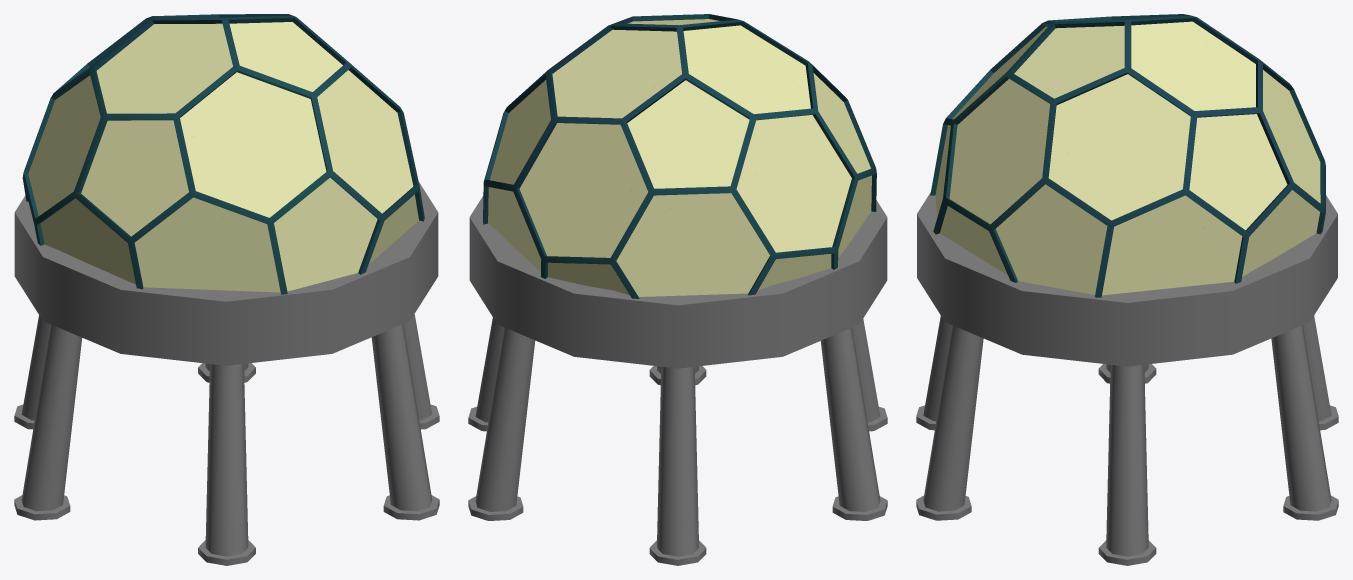
File: House3.fbx
3 views of the same model, side by side, from view 1: azimuth 30°, elevation 25°; view 2: azimuth 150°, elevation 25°; view 3: azimuth 270°, elevation 25° (orthographic).
Parts seen in each view (by area): view 1: House1; view 2: House1; view 3: House1.
Boxes of the visible parts, x1,y1,x2,y2 form: House1: [14, 14, 439, 565]; House1: [468, 14, 887, 565]; House1: [916, 14, 1338, 565].
Size of the model in its own units: 15.33 by 15.55 by 13.46.
Materials: 1 (1 with a texture image).
